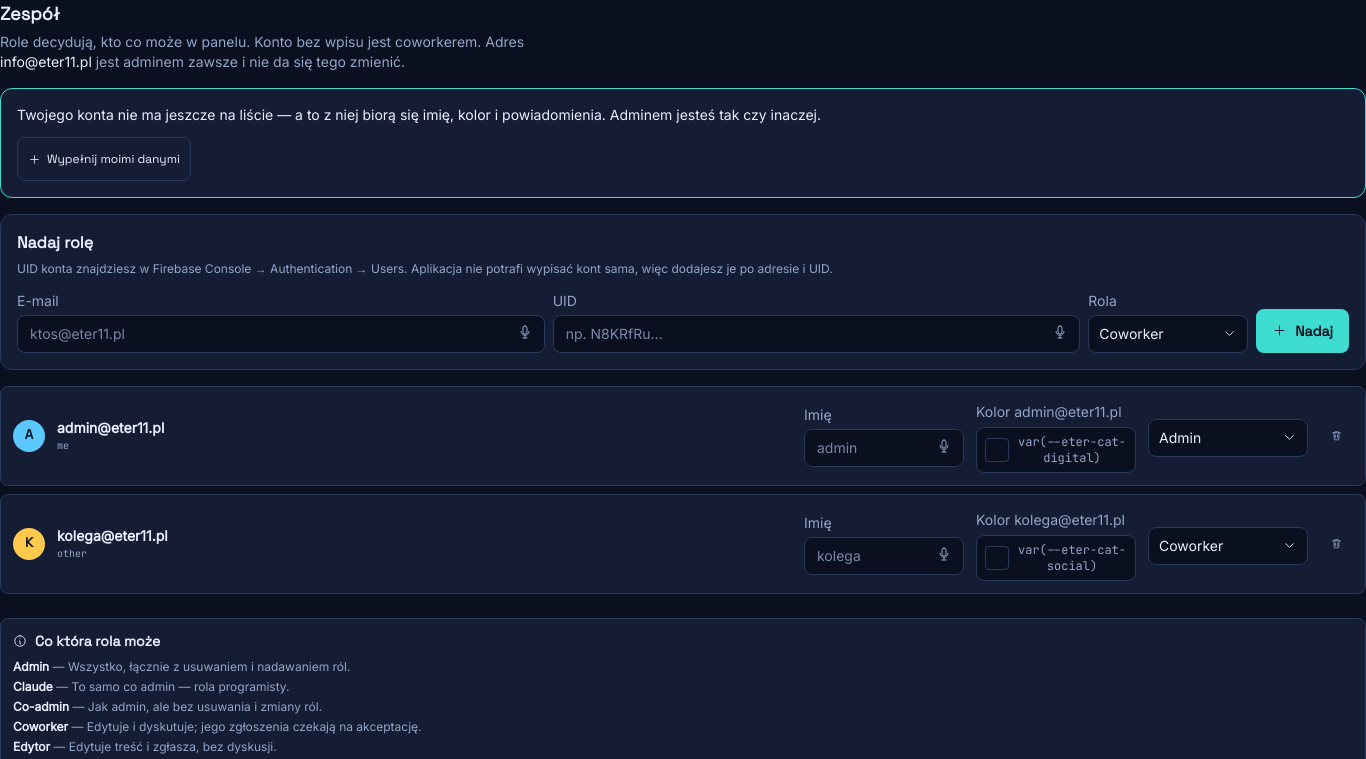
Test: TeamPanel — ochrona przed samo-wylogowaniem › nieudane zlecenie usunięcia pokazuje komunikat błędu, nie ciszę
Click the button named "Usuń konto kolega@eter11.pl na stałe".
click(1336, 544)  # box x1=1320 y1=522 x2=1353 y2=566
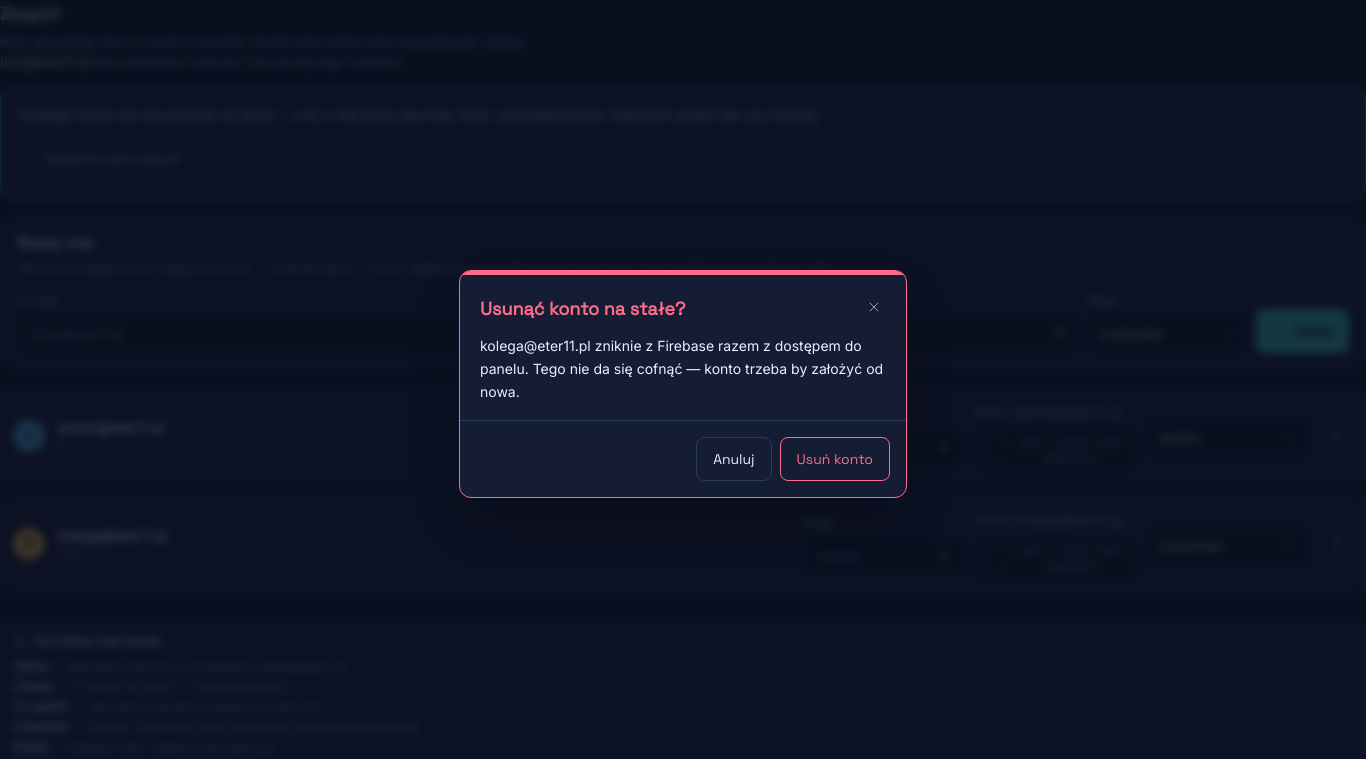
Expected: the heading "Usunąć konto na stałe?" is shown, x1=480 y1=295 x2=686 y2=323
Click the button "Usuń konto".
click(835, 459)  # box x1=780 y1=437 x2=890 y2=481
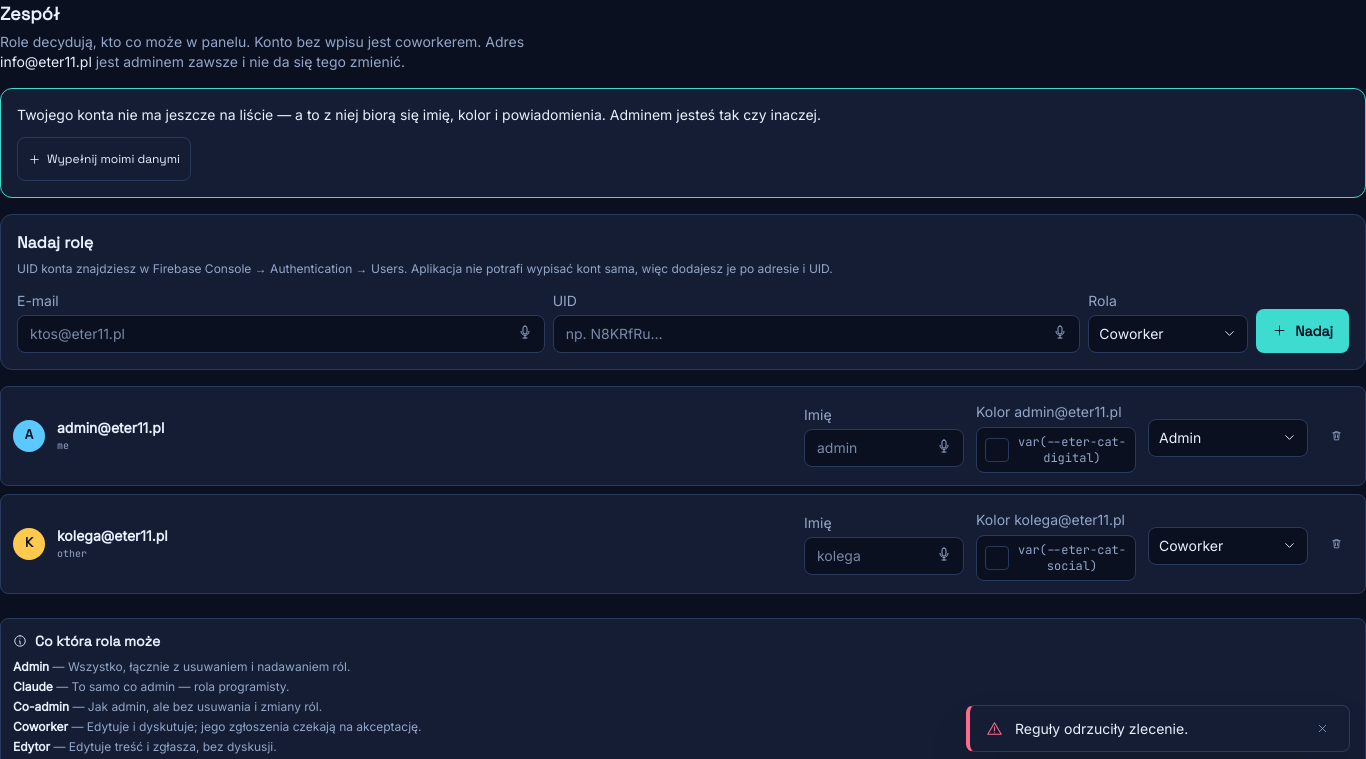
Expected: the text "Reguły odrzuciły zlecenie." is shown, x1=1015 y1=720 x2=1188 y2=736
